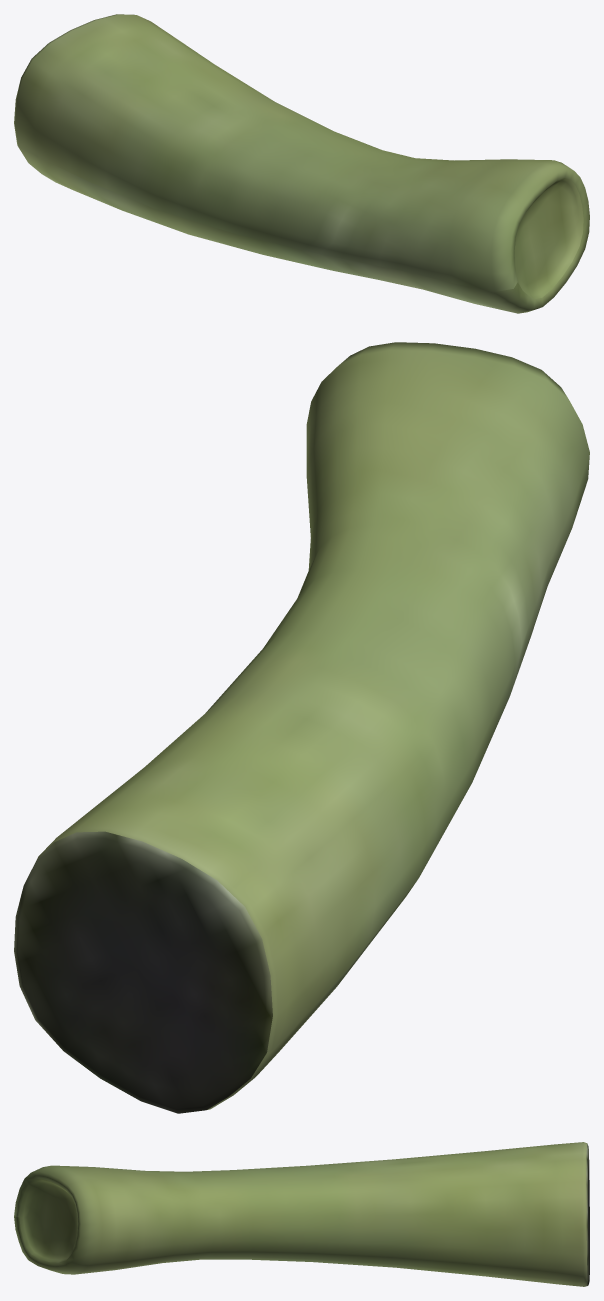
The model's file is YellowTomatoPedicel.obj.
3 views of the same model, one above another, from view 1: azimuth 30°, elevation 25°; view 2: azimuth 150°, elevation 25°; view 3: azimuth 270°, elevation 25° (orthographic). The views are drawn at different scales.
Visible parts, largest first — view 1: YellowTomatoPedicel; view 2: YellowTomatoPedicel; view 3: YellowTomatoPedicel.
Boxes of the visible parts, x1,y1,x2,y2 form: YellowTomatoPedicel: (14, 14, 589, 313); YellowTomatoPedicel: (14, 342, 589, 1113); YellowTomatoPedicel: (14, 1142, 589, 1286).
Bounding box in the file's own units: 0.00653 × 0.00451 × 0.0142.
1 material, 1 textured.
